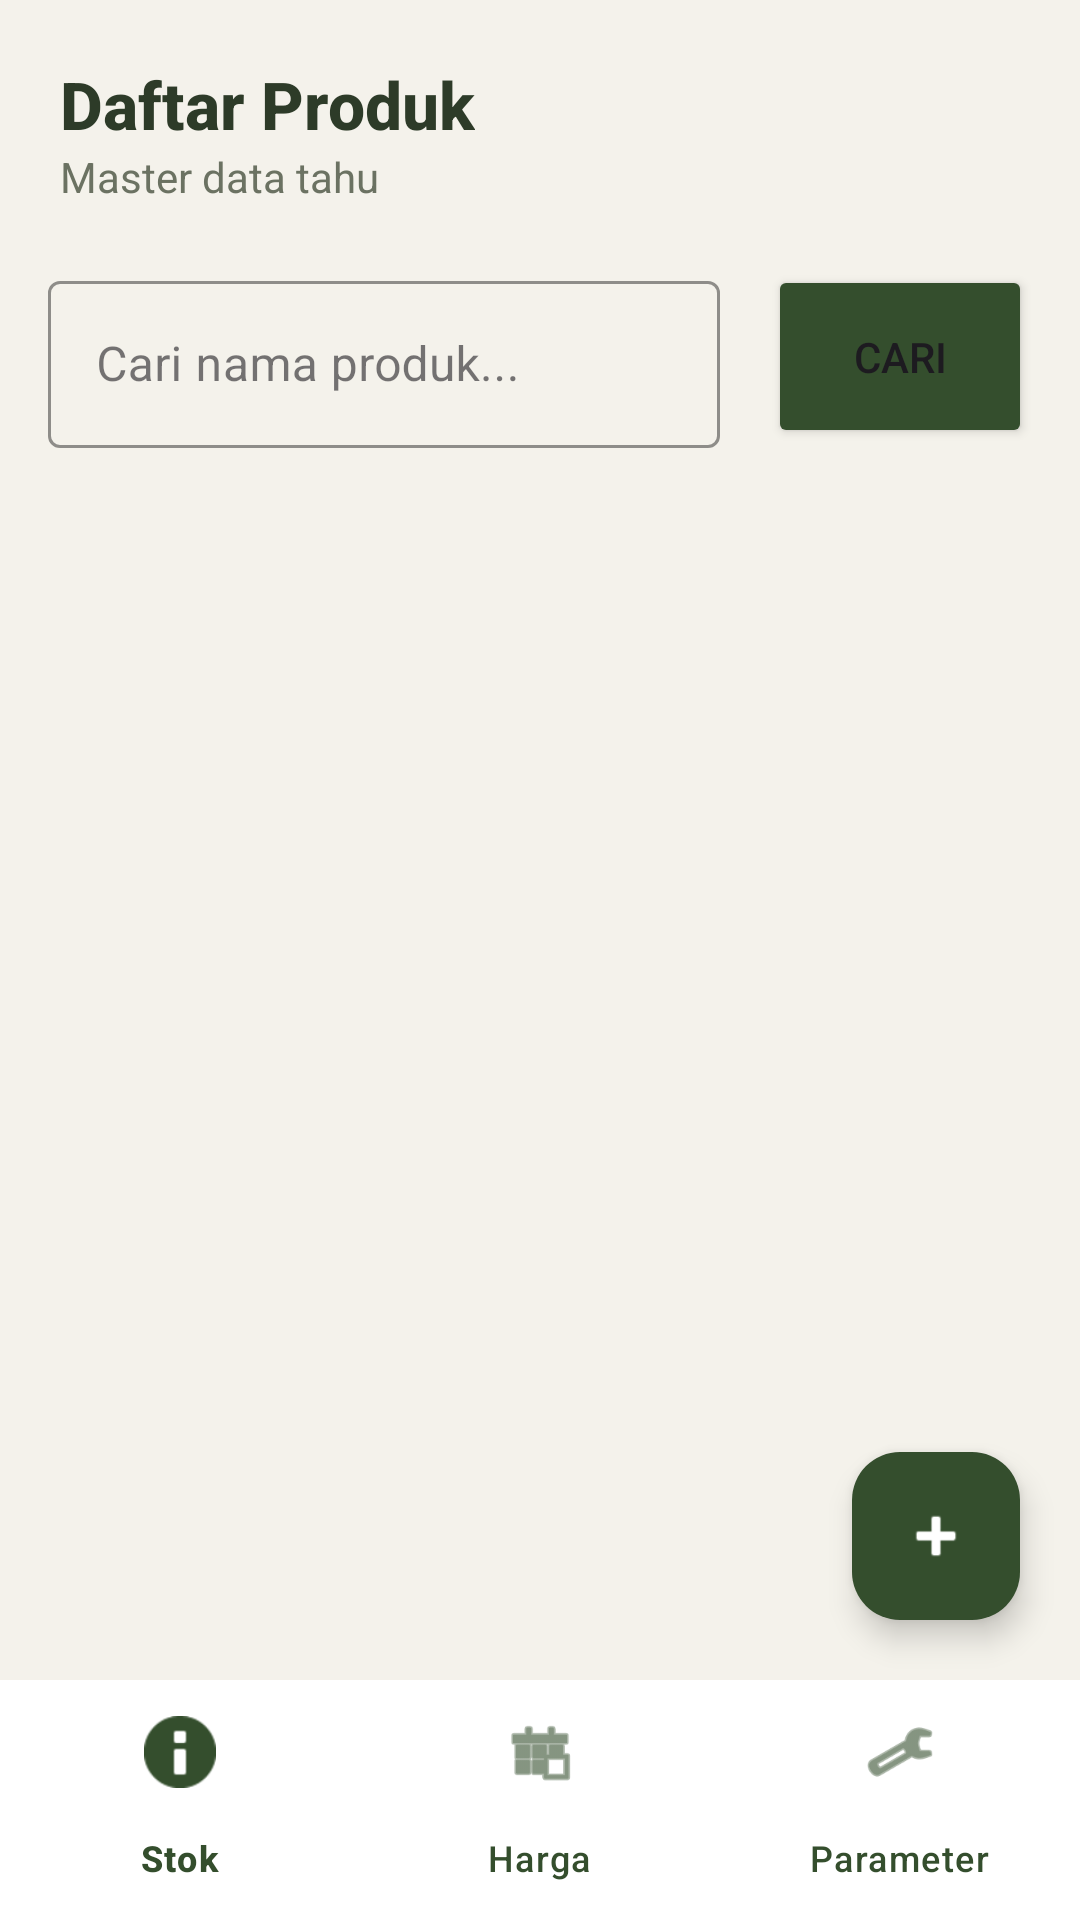

Where icons sit on this 1080 x 1920 app screen, as (x1, y1, x2, y2):
add: (852, 1452, 1020, 1620)
